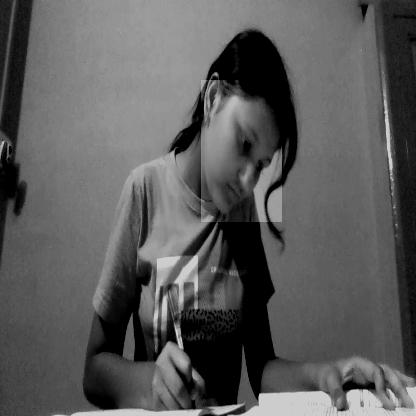Distracted: (201, 80, 282, 222)
